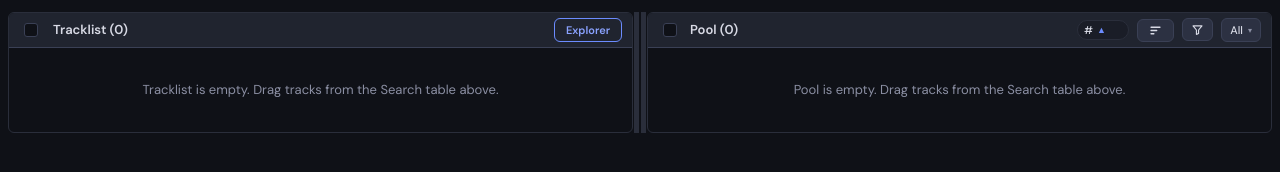
Test case: SetBuilder › workspace layout › collapsed expand bar shows a directional chevron
Step 1. Click the button named "Collapse pool" → {"x": 644, "y": 72}, box [641,12,646,132]
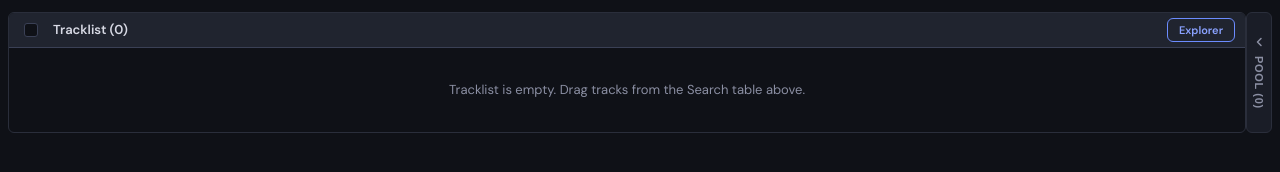
Now the icon is shown, box [1253,36,1265,48]
